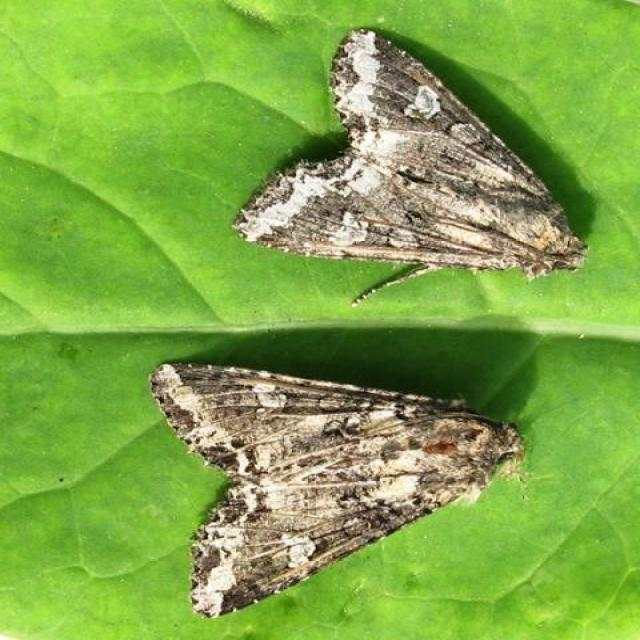army worm: (142, 353, 535, 618), (223, 32, 600, 290)
